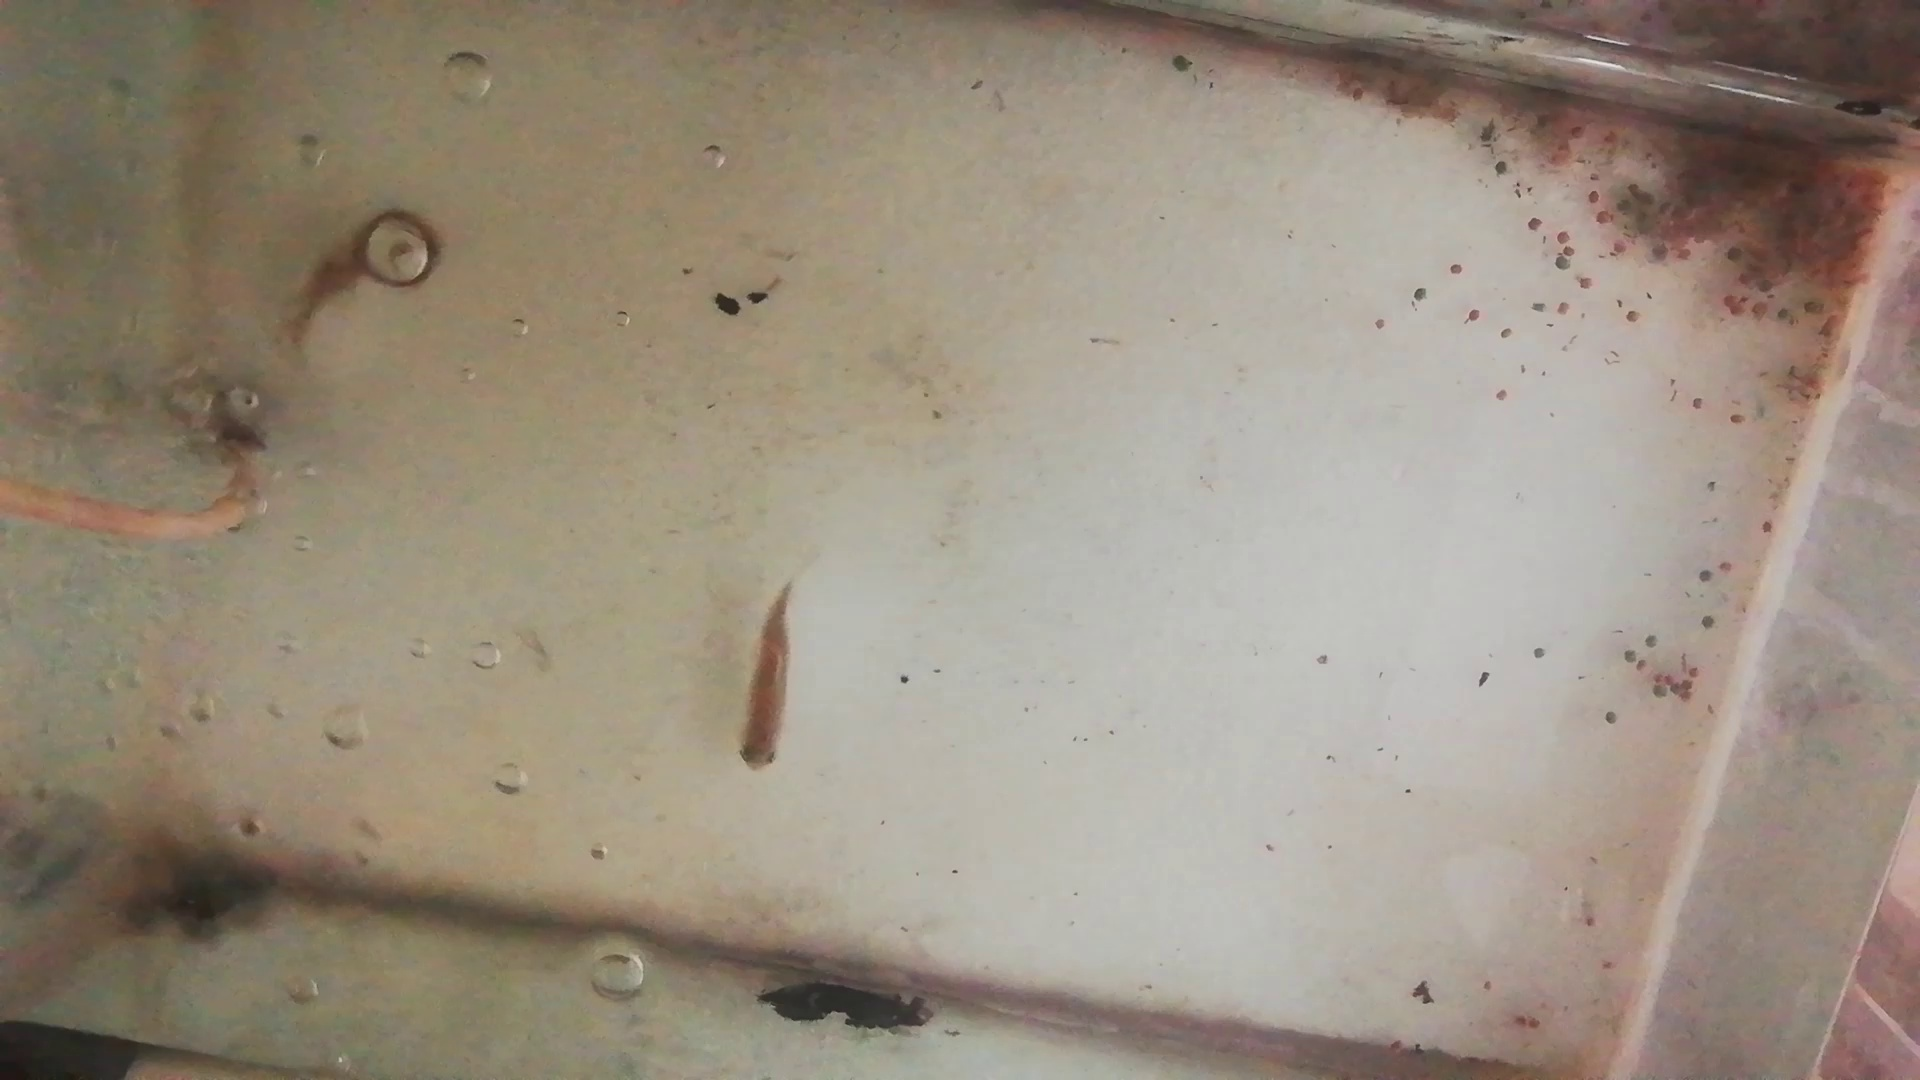fish: (276, 207, 438, 345), (740, 582, 796, 774)
